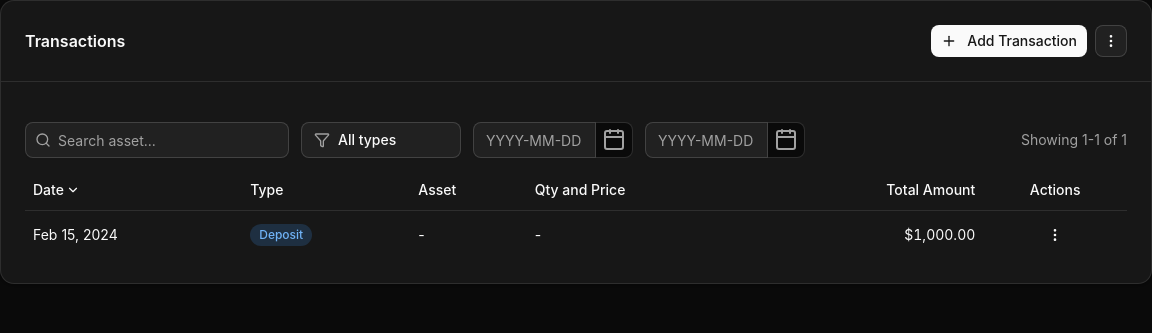
Test case: TransactionView › skips the query and marks the to-field invalid when date range is inverted
The width and height of the screenshot is (1152, 333).
Type "2024-03-01" into the field with id "tx-date-from".
click(534, 140); type("2024-03-01")  # box [473, 122, 596, 158]
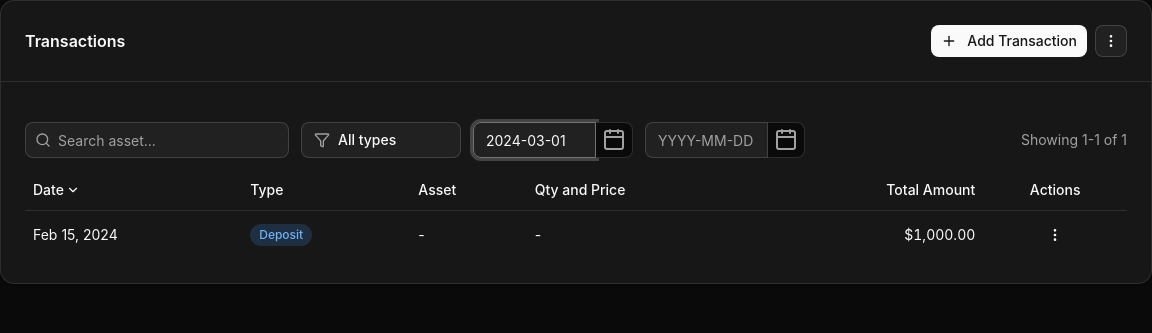
Type "2024-02-01" into the field with id "tx-date-to".
click(706, 140); type("2024-02-01")  # box [645, 122, 768, 158]
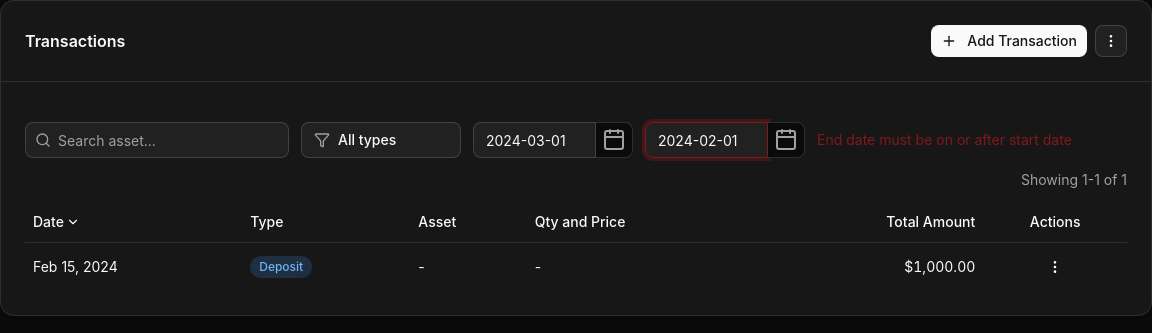
expect the message reads "End date must be on or after start date": met, box [817, 131, 1072, 148]
